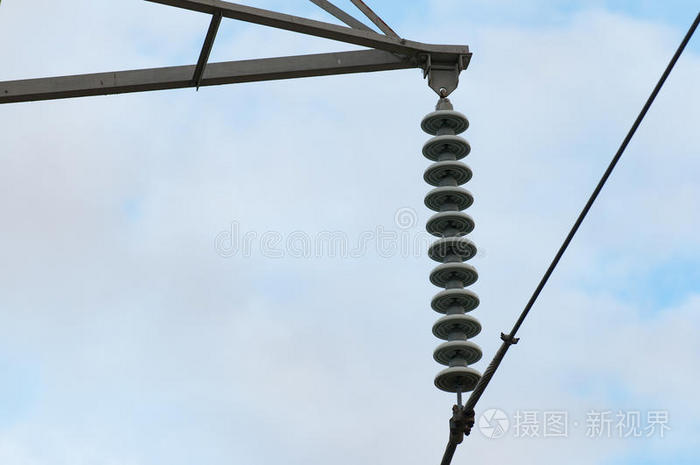insulator: (419, 109, 485, 391)
